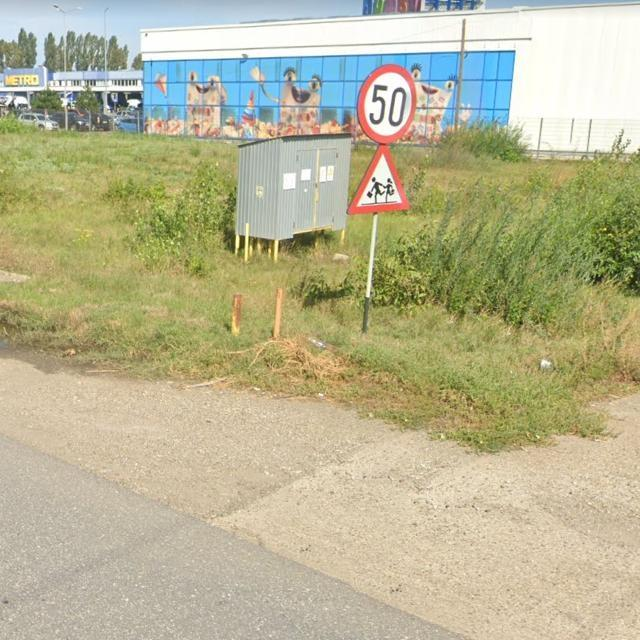forb_speed_over_50: (356, 65, 419, 144)
